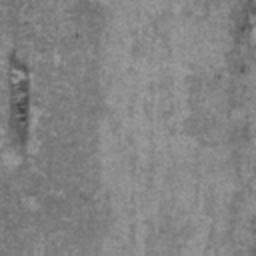Oxide scale of plate system: (4, 46, 32, 148), (224, 0, 256, 78)
